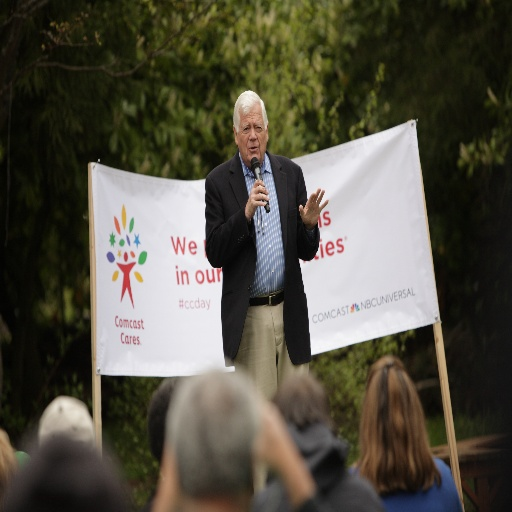hand: (254, 397, 289, 464), (299, 188, 333, 238), (244, 178, 270, 217)
